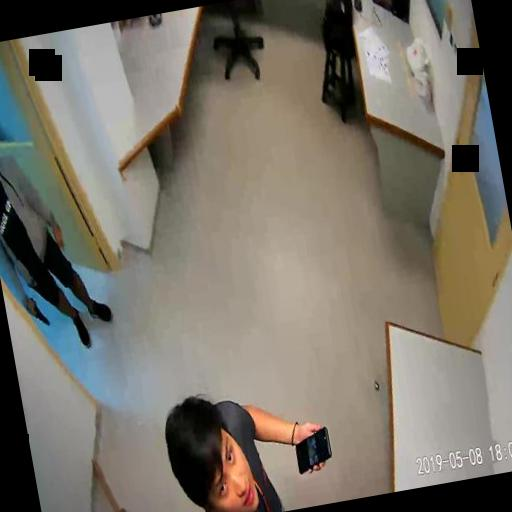Handgun: (28, 294, 48, 326)
